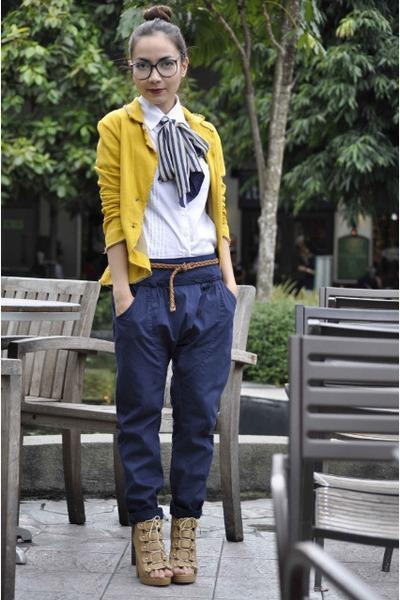jacket: (94, 95, 237, 292)
pants: (108, 257, 238, 531)
shirt: (142, 96, 225, 258)
shoe: (131, 504, 197, 587)
